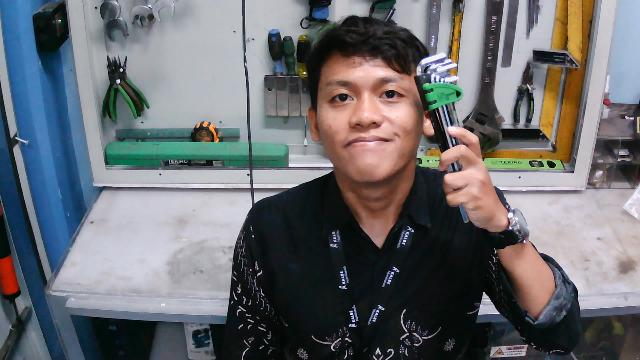kunci_l: (413, 53, 492, 225)
